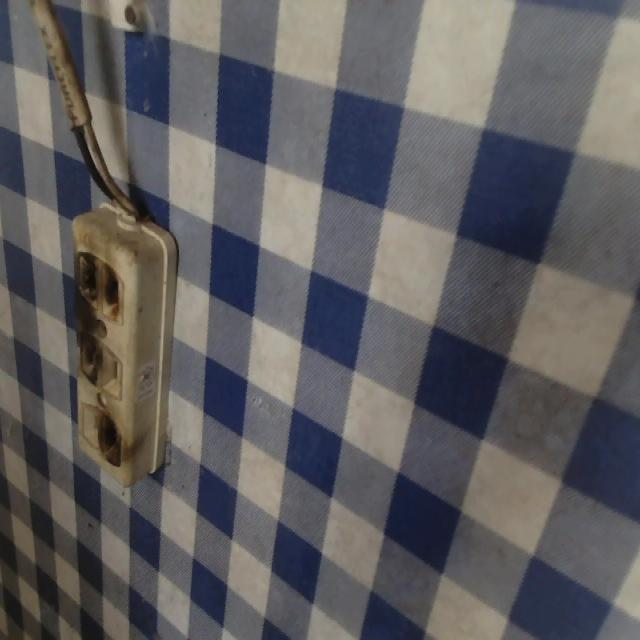-: (72, 246, 123, 322), (76, 330, 104, 386), (99, 408, 121, 468)
